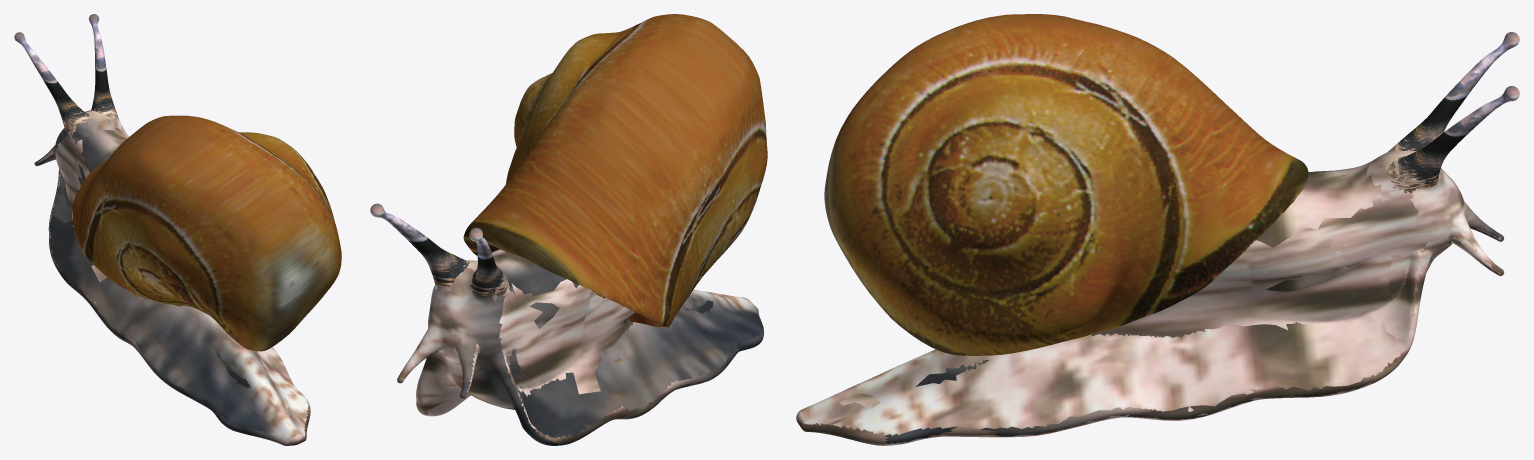
The picture shows the model from 3 angles, left to right: view 1: azimuth 30°, elevation 25°; view 2: azimuth 150°, elevation 25°; view 3: azimuth 270°, elevation 25°; orthographic projection. The views are drawn at different scales.
Parts seen in each view (by area): view 1: snail; view 2: snail; view 3: snail.
Part boxes in pixels (<box>): snail: <box>14,14,341,445</box>; snail: <box>370,14,767,445</box>; snail: <box>796,14,1519,445</box>.
Bounding box in the file's own units: 124 × 178 × 298.
3 materials, 3 textured.
